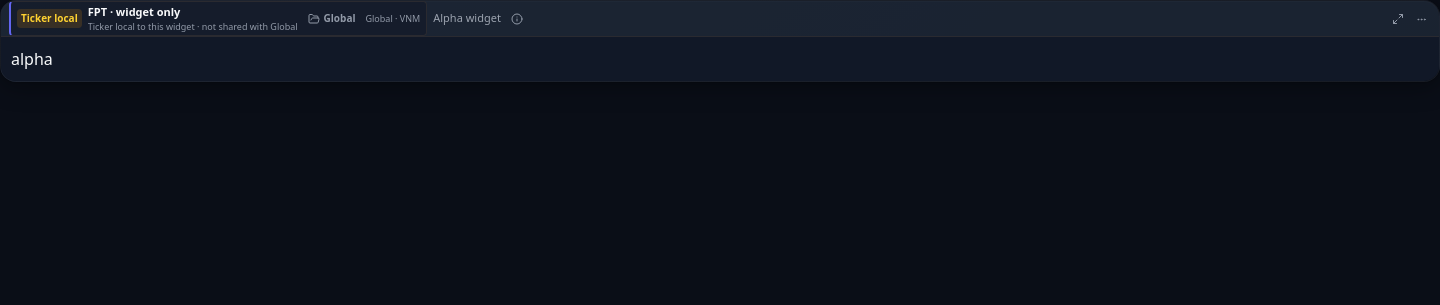
Test case: WidgetGroupSelector ticker scope › reopens a widget detached when its config persisted an override scope
Check: the text with test id "ticker-scope-badge" reads "Ticker local", box left=21, top=11, right=78, bottom=25
Check: the element titled "Global · FPT" is shown, box left=9, top=1, right=427, bottom=36
Click the button with aria-label "Ticker group: " at (332, 18), box left=304, top=9, right=360, bottom=28
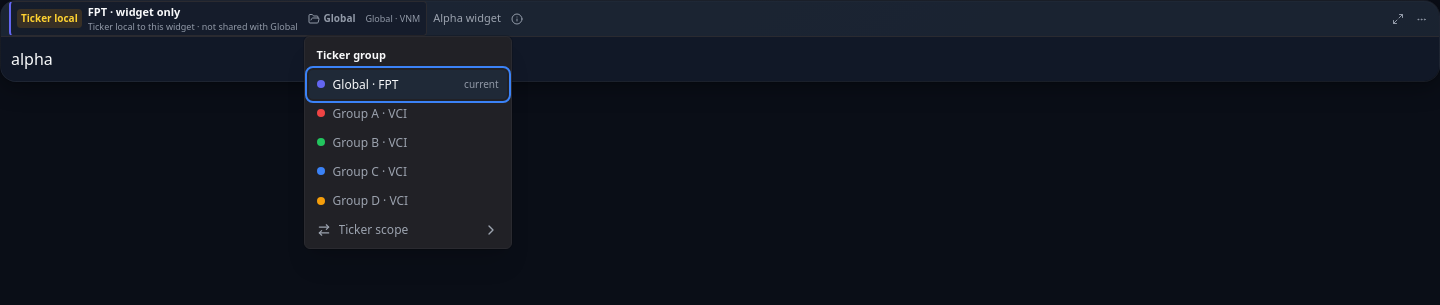
Click the menu item with aria-label "Ticker scope for this widget" at (408, 230), box left=317, top=221, right=499, bottom=238
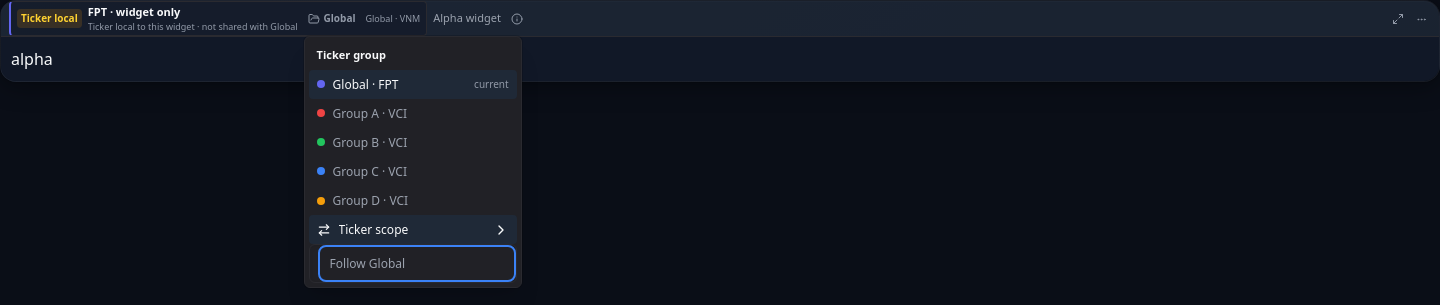
Click the menu item "Follow Global" at (367, 264), box left=330, top=255, right=405, bottom=272
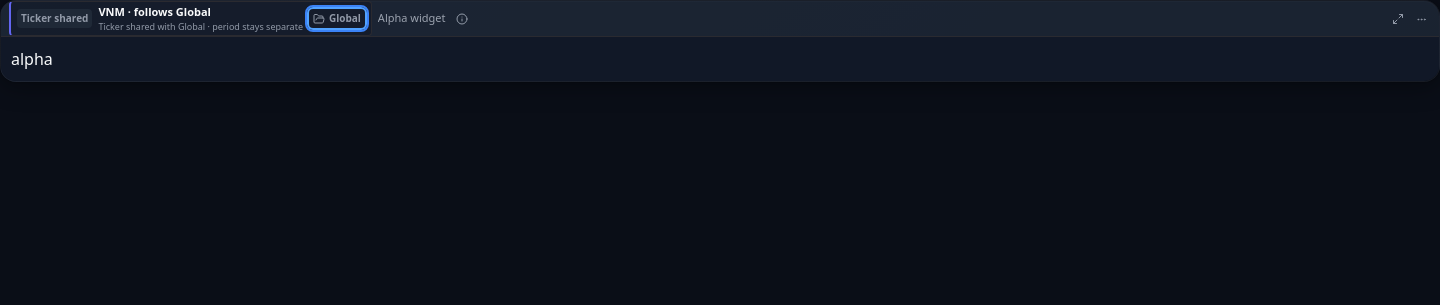
Check: the element titled "Global · VNM" is shown, box left=9, top=1, right=372, bottom=36
Check: the text with test id "ticker-scope-badge" reads "Ticker shared", box left=21, top=11, right=88, bottom=25
